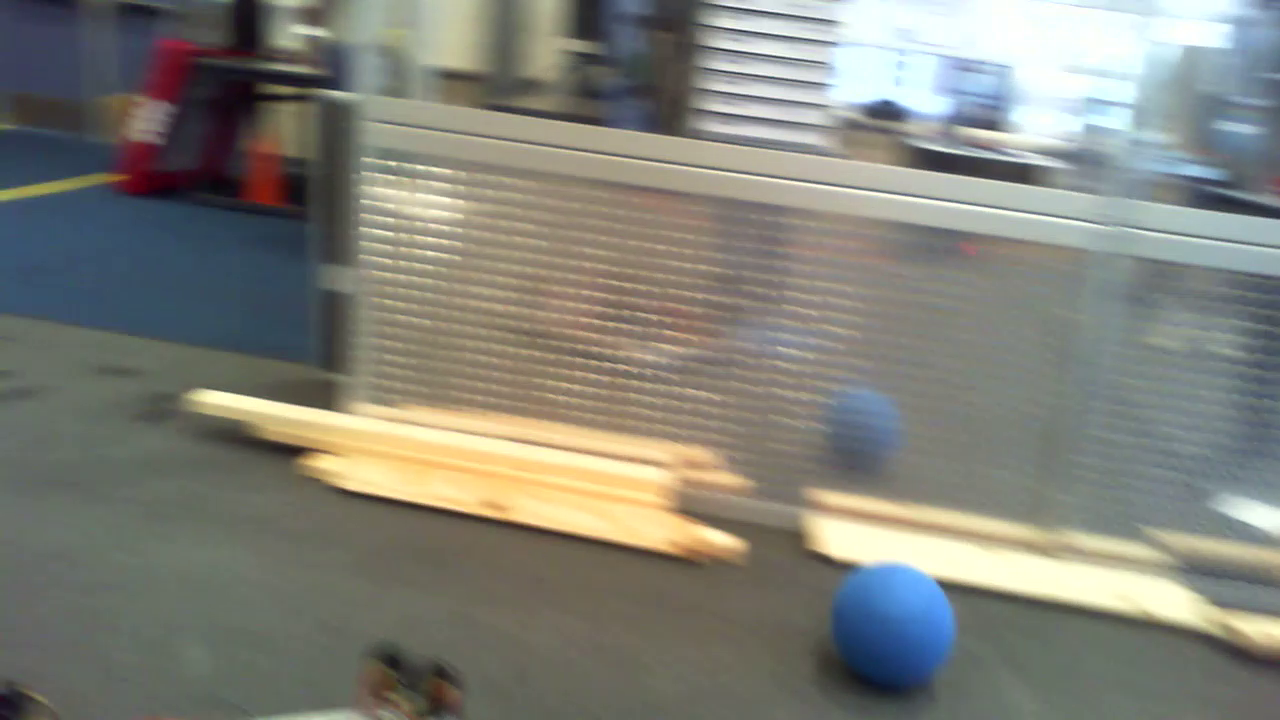blue_cargo: (835, 561, 951, 675)
